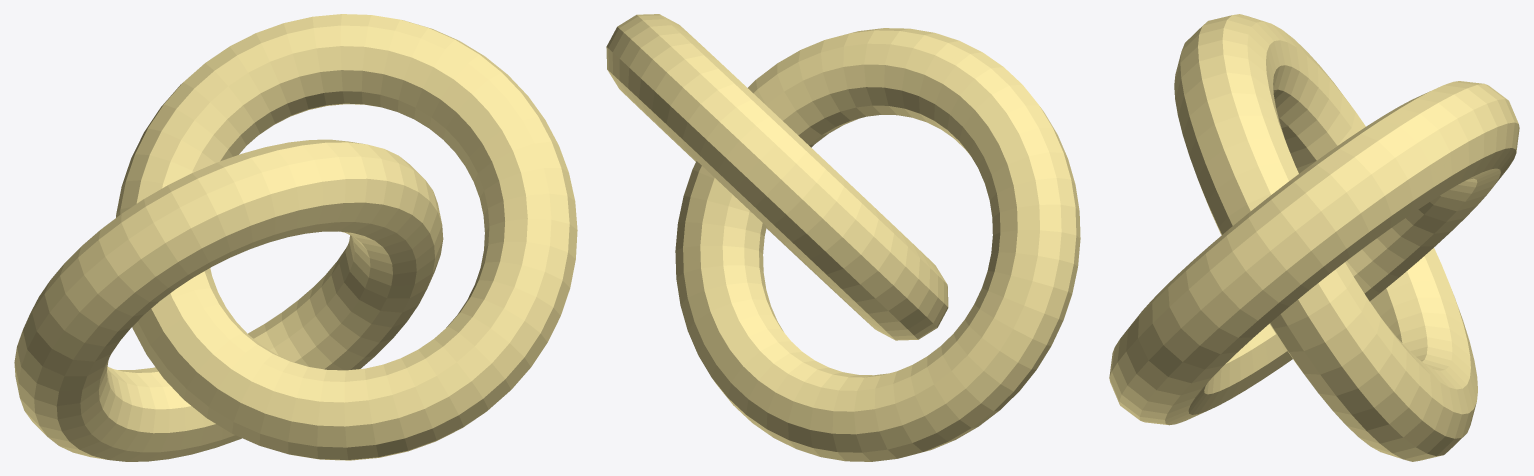
Rendered from yuzuk.fbx.
The picture shows the model from 3 angles, left to right: view 1: azimuth 30°, elevation 25°; view 2: azimuth 150°, elevation 25°; view 3: azimuth 270°, elevation 25°; orthographic projection. The views are drawn at different scales.
Parts seen in each view (by area): view 1: Torus; view 2: Torus; view 3: Torus.
Part boxes in pixels (bbox=[...]): Torus: bbox=[14, 14, 577, 461]; Torus: bbox=[606, 14, 1080, 461]; Torus: bbox=[1109, 14, 1519, 461].
Bounding box in the file's own units: 309 × 234 × 208.
